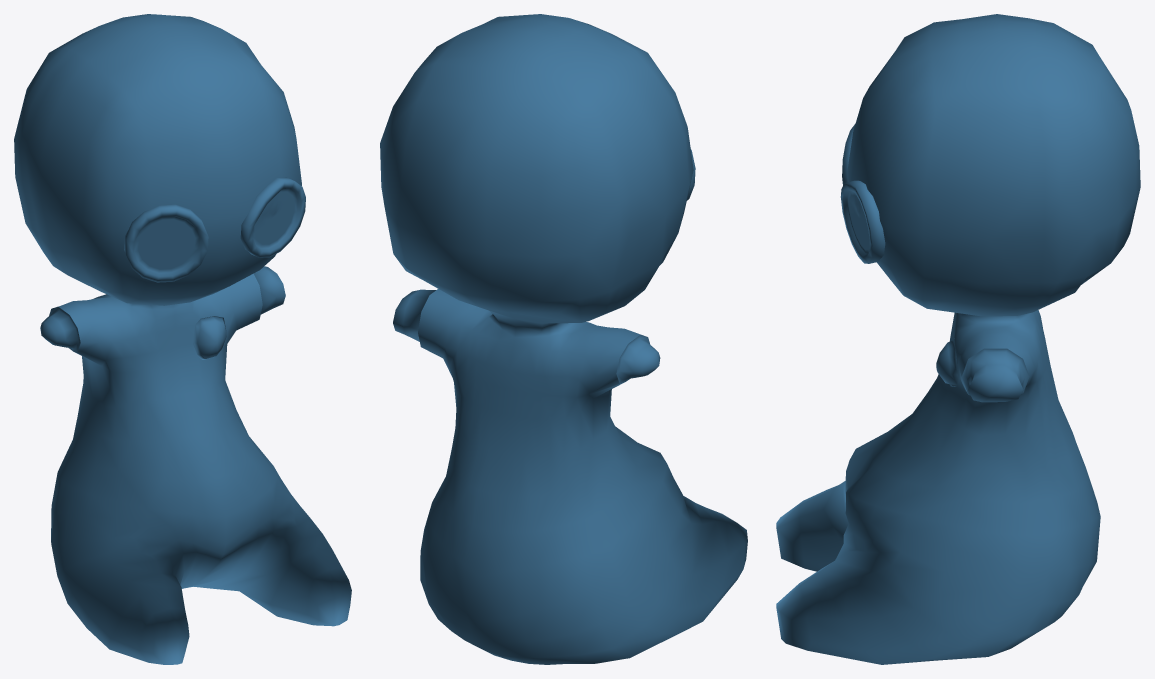
File: Puppe_10_SM.FBX
3 renders of one model, left to right at view 1: azimuth 30°, elevation 25°; view 2: azimuth 150°, elevation 25°; view 3: azimuth 270°, elevation 25°, orthographic. The views are drawn at different scales.
Visible parts, largest first — view 1: Voodoo 09; view 2: Voodoo 09; view 3: Voodoo 09.
Boxes of the visible parts, x1,y1,x2,y2 form: Voodoo 09: (14, 14, 351, 664); Voodoo 09: (380, 14, 747, 664); Voodoo 09: (776, 14, 1140, 664).
Bounding box in the file's own units: 15.31 × 34.18 × 19.09.
